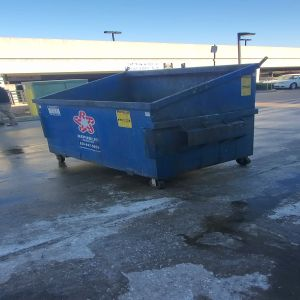Dumpster: (37, 67, 260, 191)
Person: (1, 82, 17, 128)
